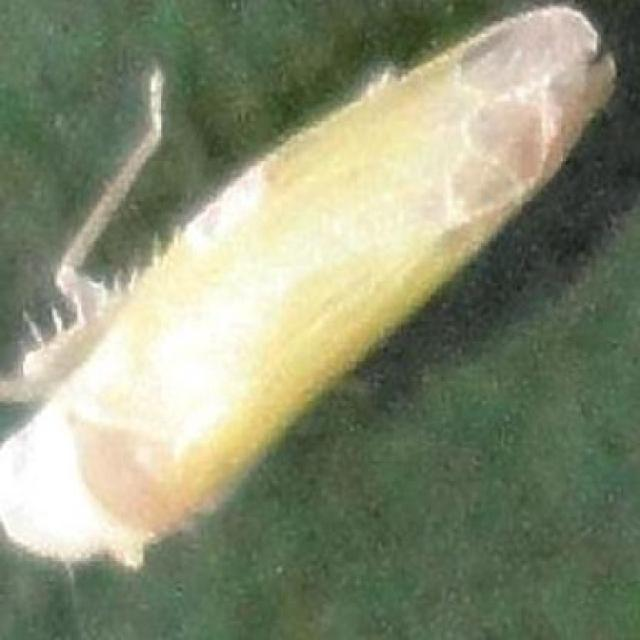green-leafhopper: (2, 7, 620, 566)
